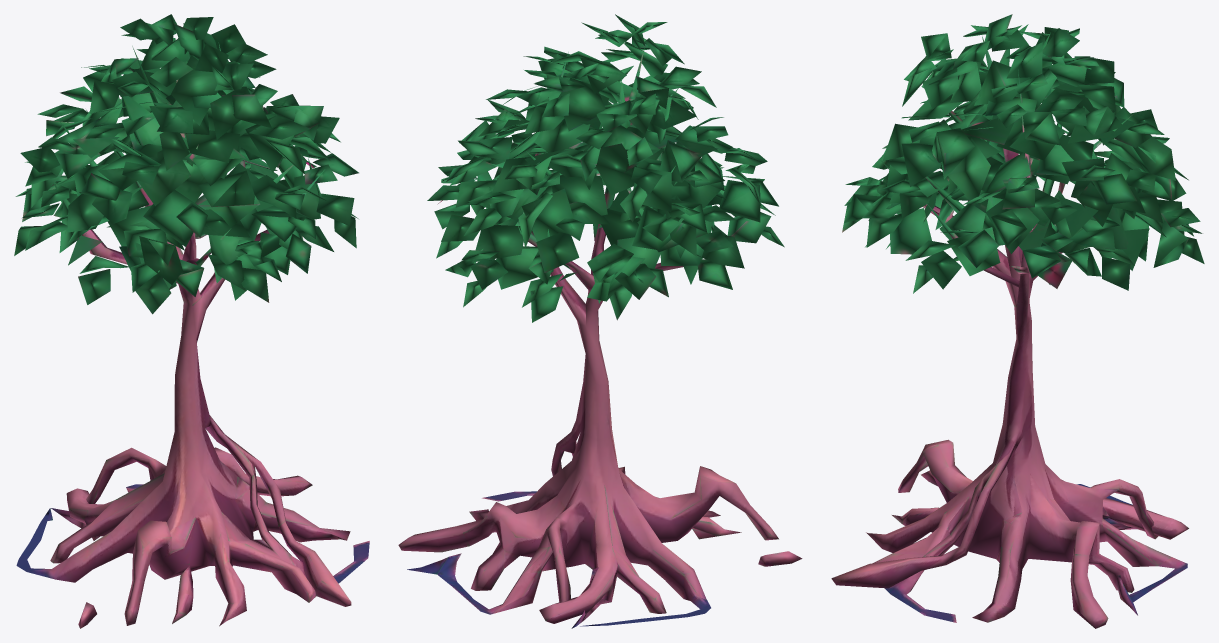
Rendered from mangrove.glb.
The picture shows the model from 3 angles, left to right: view 1: azimuth 30°, elevation 25°; view 2: azimuth 150°, elevation 25°; view 3: azimuth 270°, elevation 25°; orthographic projection.
Bounding box in the file's own units: 0.617 × 0.9994 × 0.6303.
Materials: 1 (1 with a texture image).
